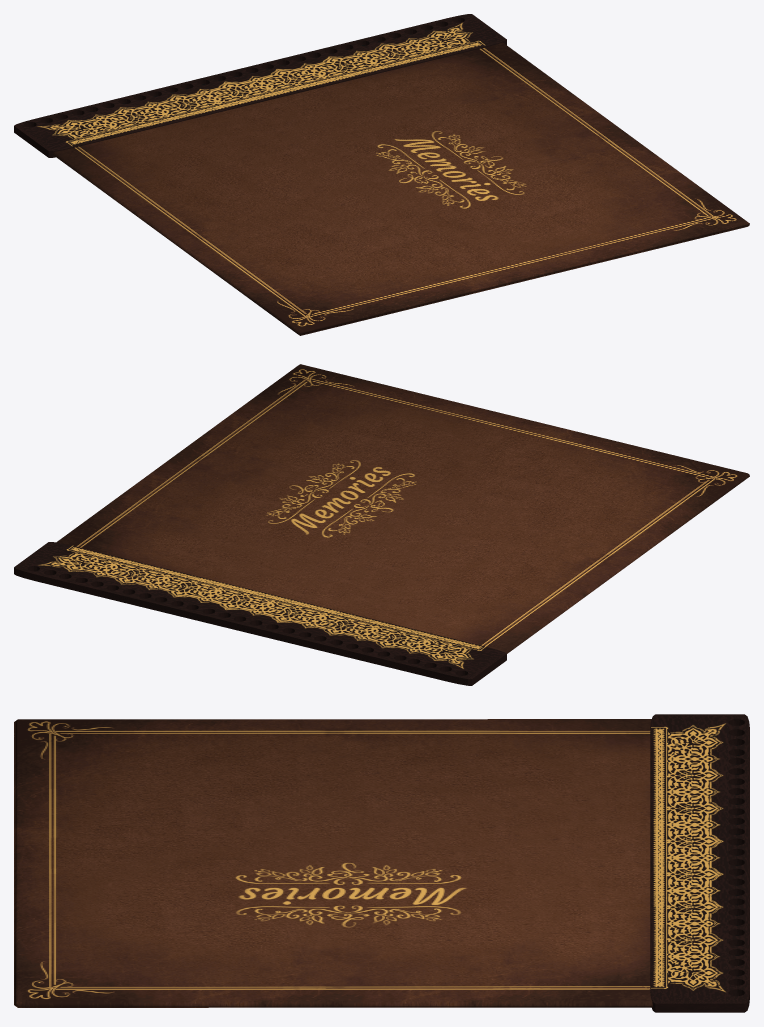
File: mdl_Robin_ScrapbookCover.gltf
3 views of the same model, one above another, from view 1: azimuth 30°, elevation 25°; view 2: azimuth 150°, elevation 25°; view 3: azimuth 270°, elevation 25° (orthographic). The views are drawn at different scales.
Visible parts, largest first — view 1: Cover_Main, Cover_Binding, Binding_Gold_Trim; view 2: Cover_Main, Cover_Binding, Binding_Gold_Trim; view 3: Cover_Main, Cover_Binding, Binding_Gold_Trim.
Boxes of the visible parts, left/top/right/bottom form: Cover_Main: left=52, top=42, right=749, bottom=335; Cover_Binding: left=14, top=14, right=506, bottom=157; Binding_Gold_Trim: left=37, top=23, right=485, bottom=146; Cover_Main: left=56, top=364, right=749, bottom=653; Cover_Binding: left=14, top=542, right=506, bottom=685; Binding_Gold_Trim: left=38, top=545, right=486, bottom=668; Cover_Main: left=14, top=719, right=652, bottom=1007; Cover_Binding: left=650, top=714, right=749, bottom=1012; Binding_Gold_Trim: left=651, top=723, right=725, bottom=992.
Size of the model in its own units: 0.3091 by 0.00511 by 0.3324.
4 materials, 4 textured.
